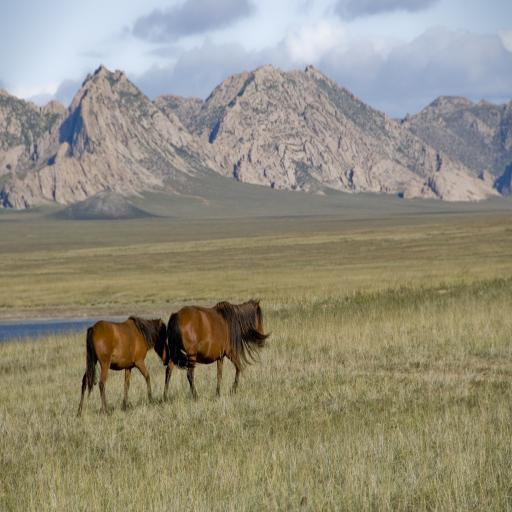horse: (162, 296, 273, 404), (75, 315, 170, 417)
